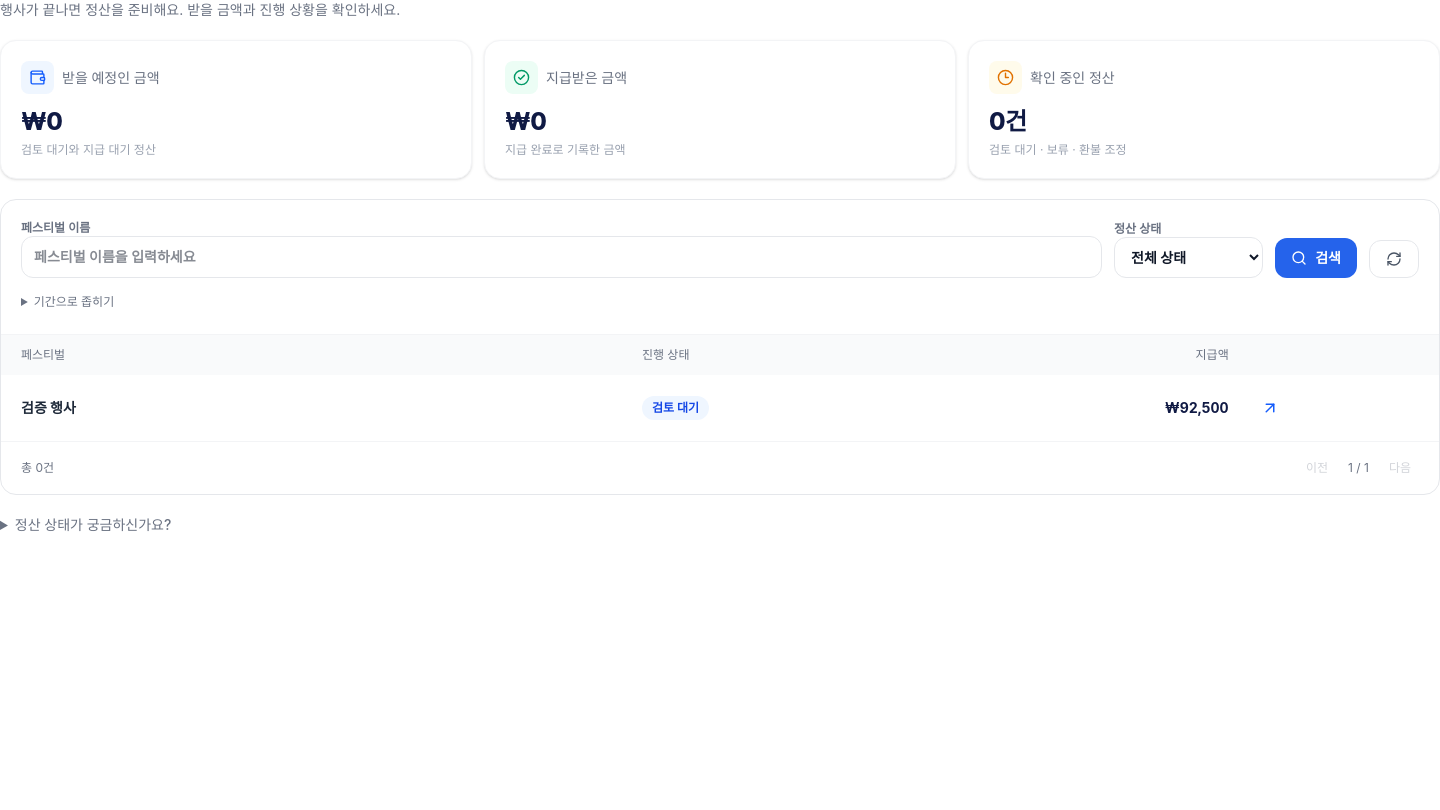
Test case: SettlementReport › never exposes admin commands or audit data to HOST
Click the button named "검증 행사 상세" at (1270, 408), box [1253, 391, 1287, 425]
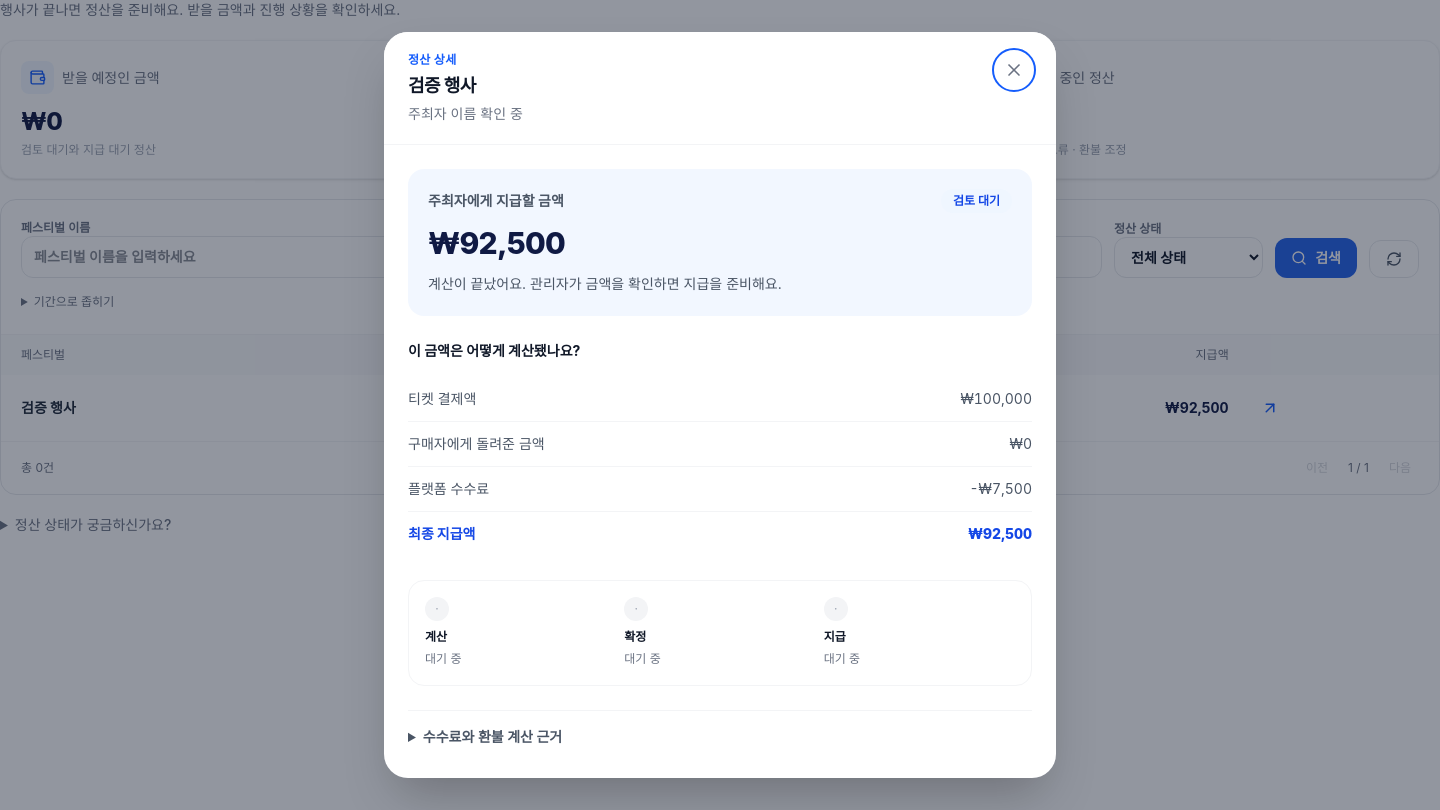
Expected: the heading "수수료와 환불 계산 근거" is shown, [423, 728, 562, 745]
